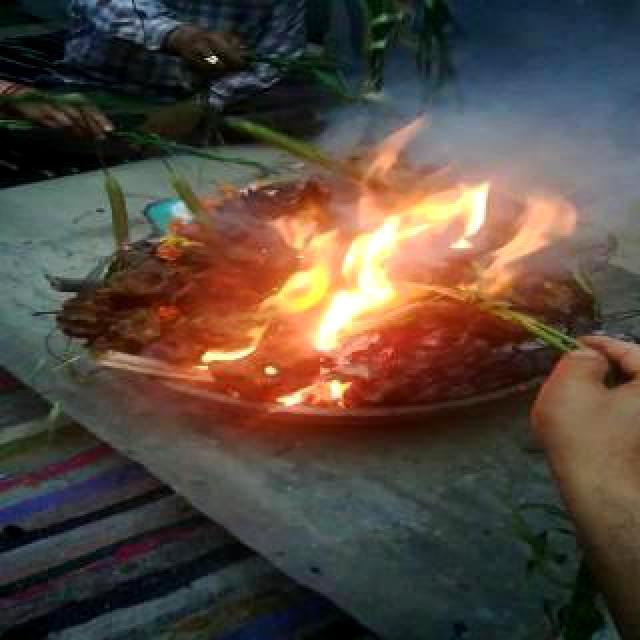Fire: (186, 132, 583, 427)
Smoke: (414, 6, 636, 190)
